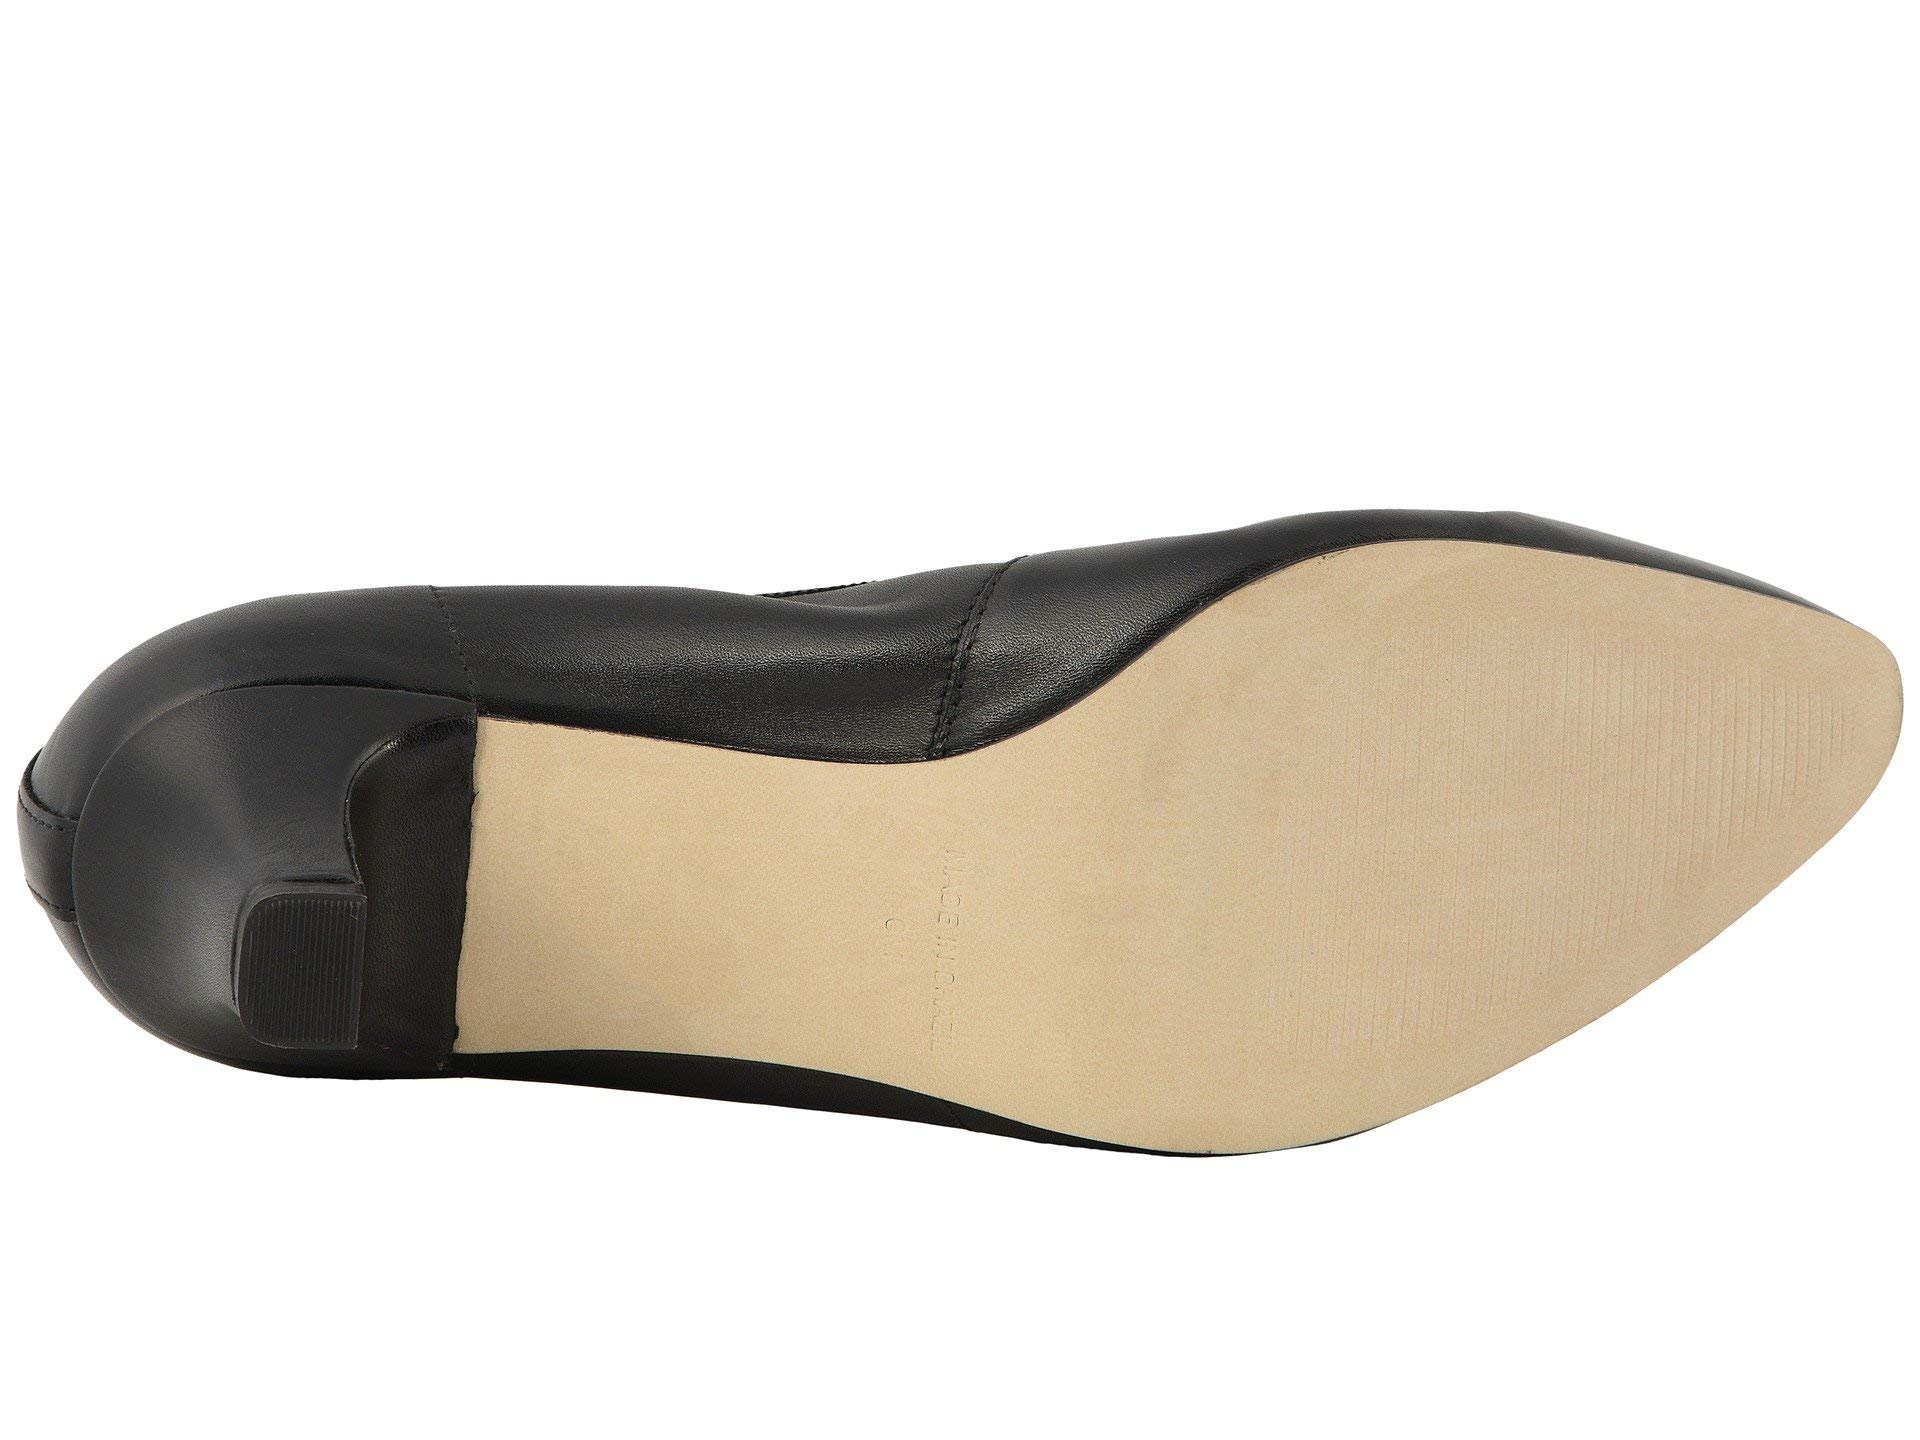line: (1217, 578, 1612, 1016), (1634, 643, 1857, 814)
